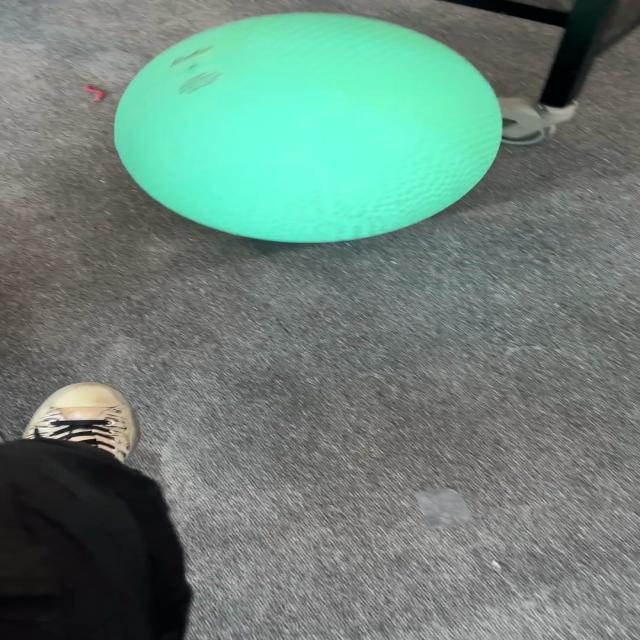Algae: (111, 11, 504, 244)
